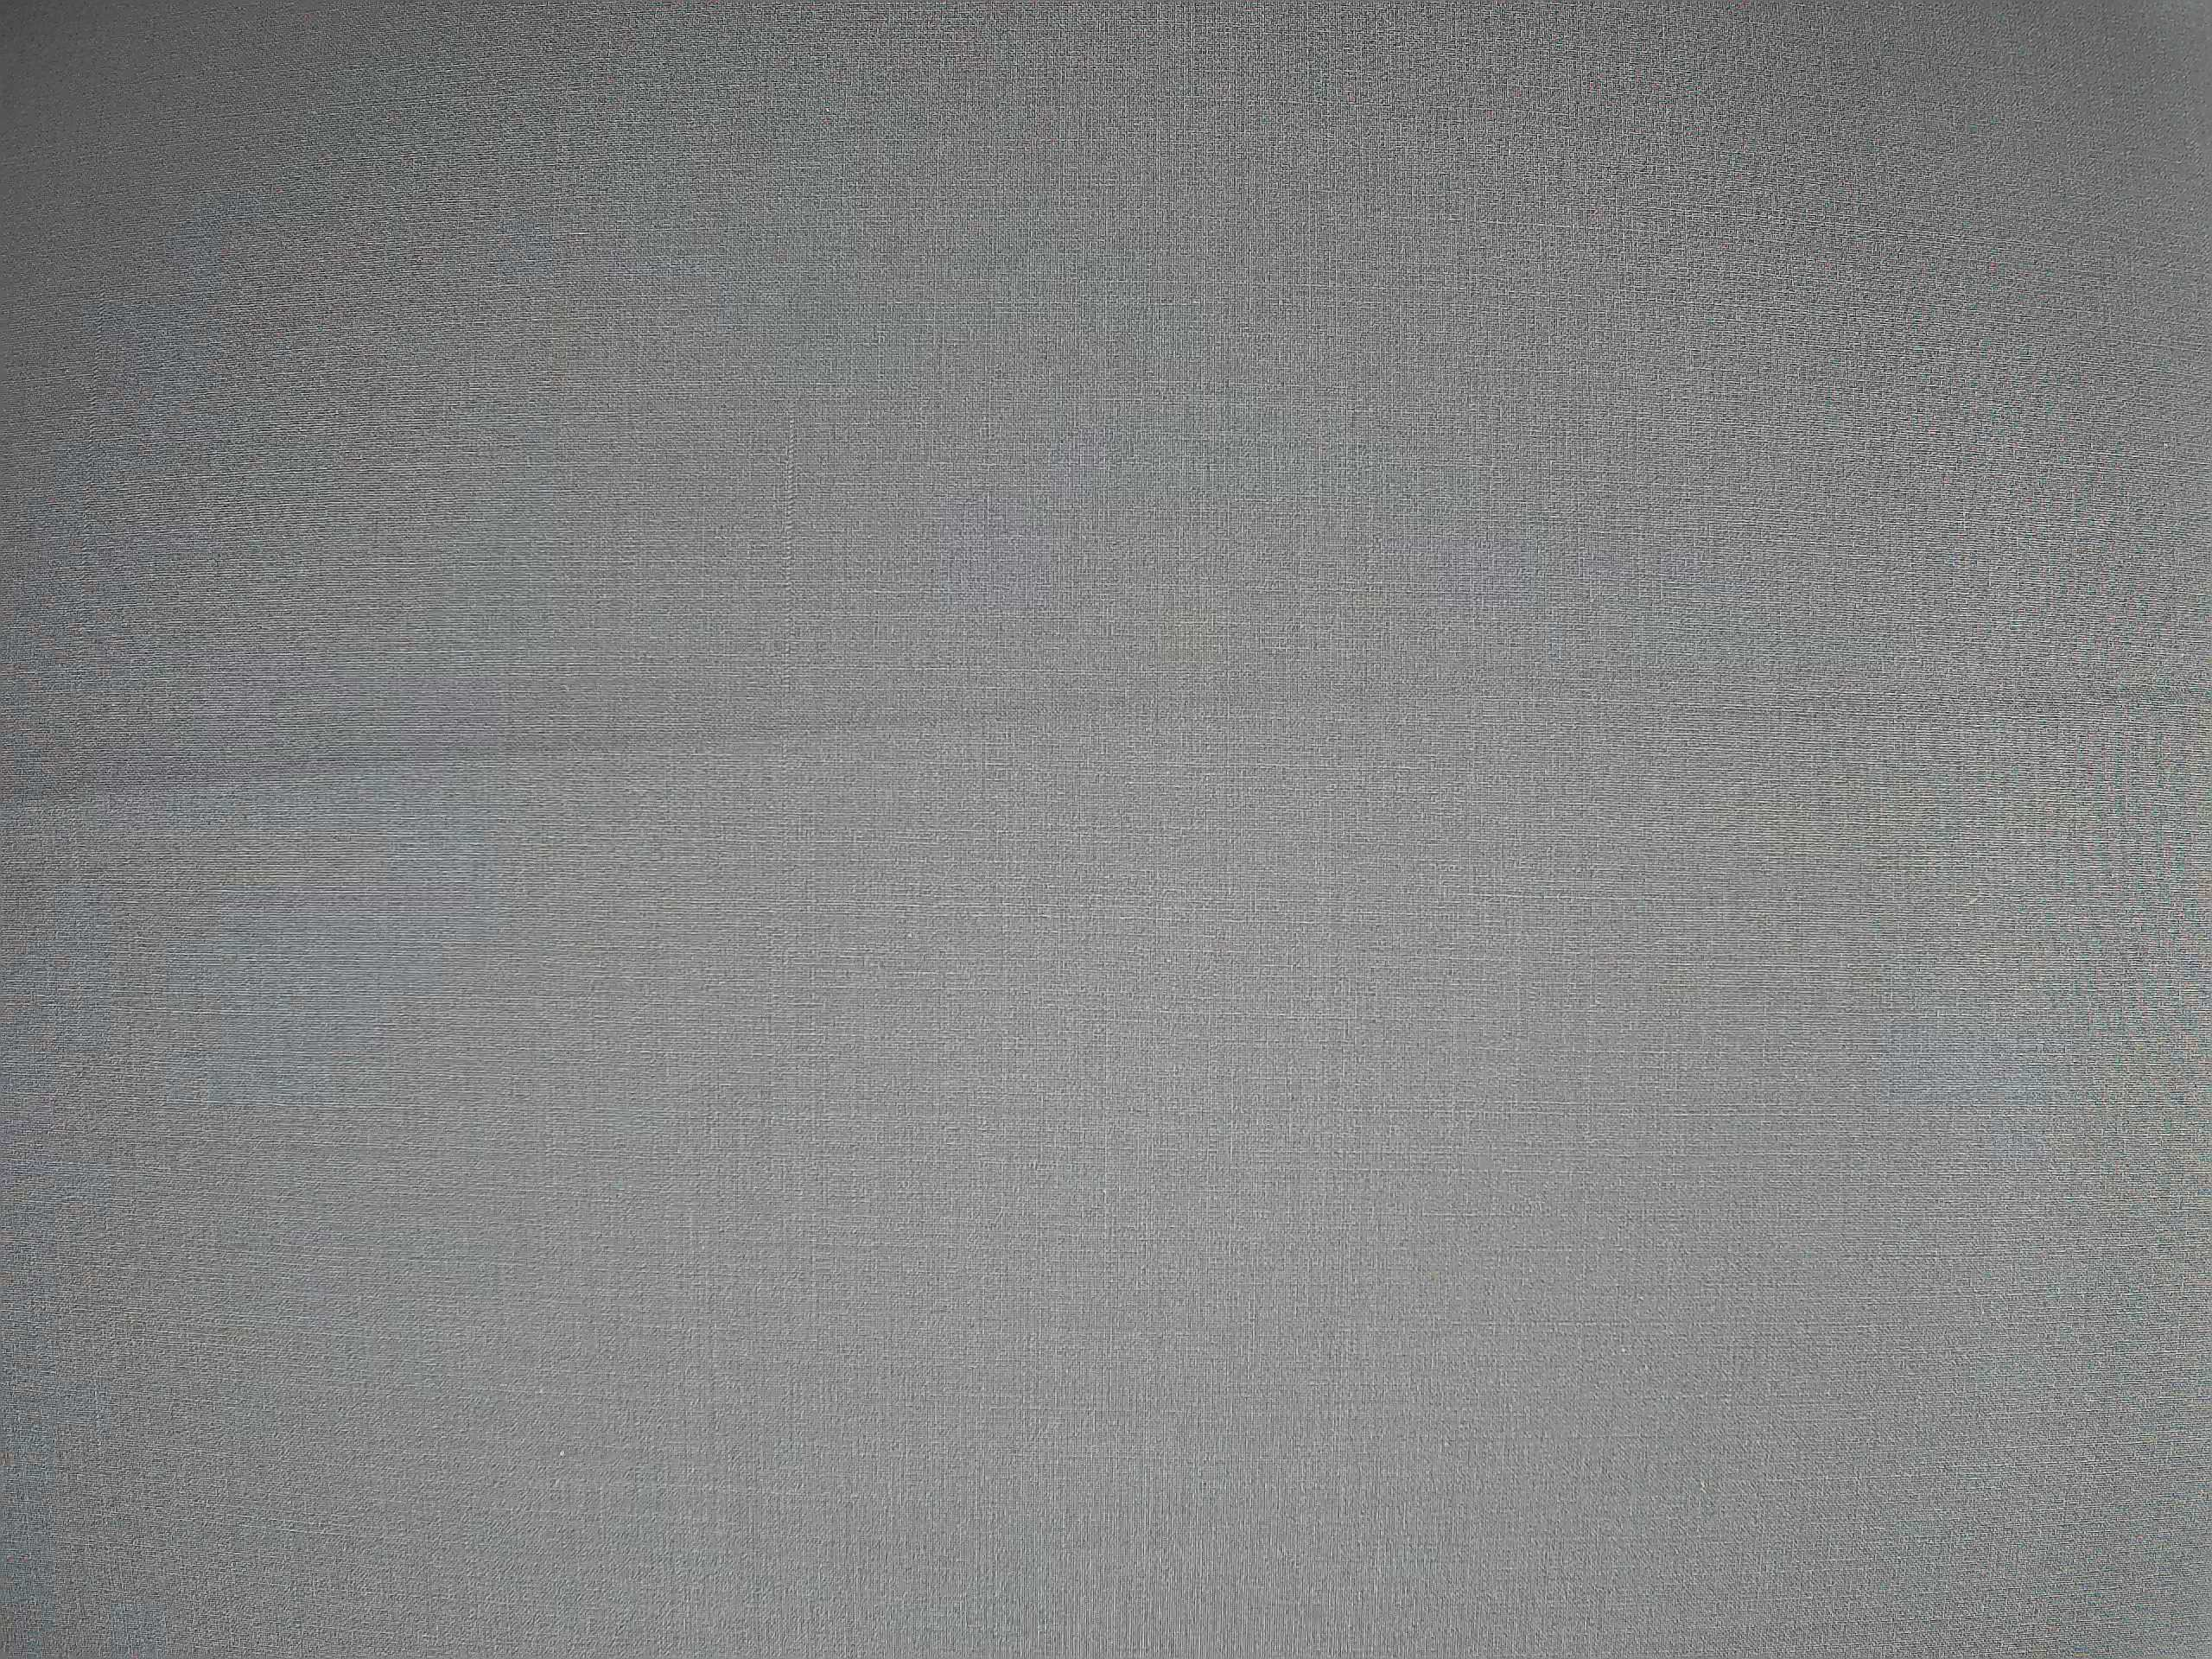others: (773, 399, 805, 755)
